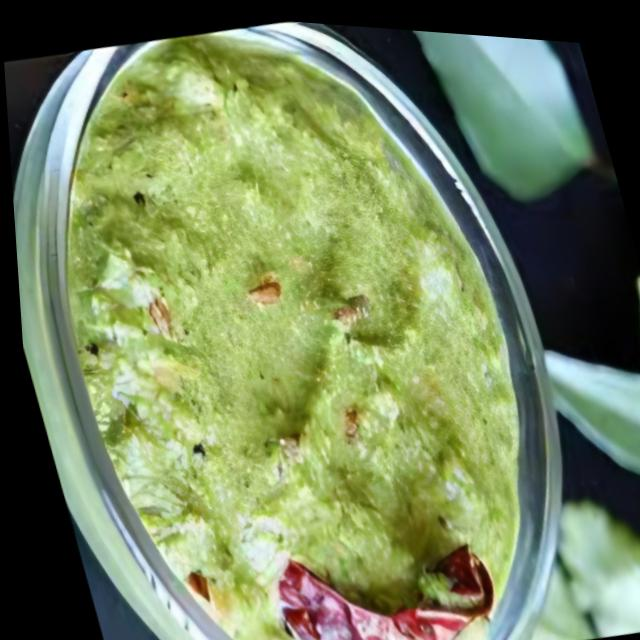GREEN CHUTNEY: (66, 37, 518, 640)
